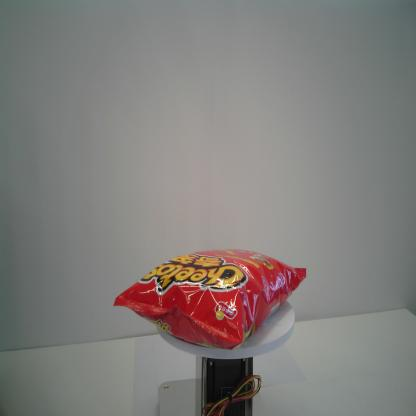Puffed Food: (111, 243, 306, 353)
